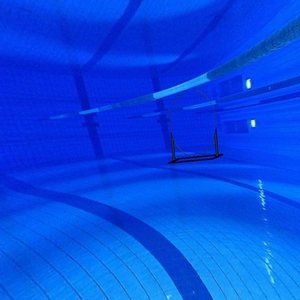circle: (167, 88, 225, 165)
